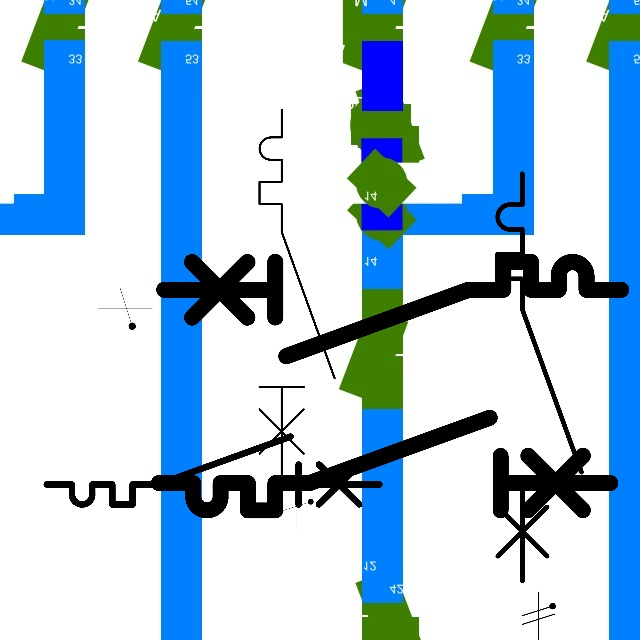interruptor_termomagnetico: (152, 250, 633, 367), (147, 406, 622, 522), (487, 163, 592, 591), (250, 100, 344, 485), (38, 428, 388, 513)
